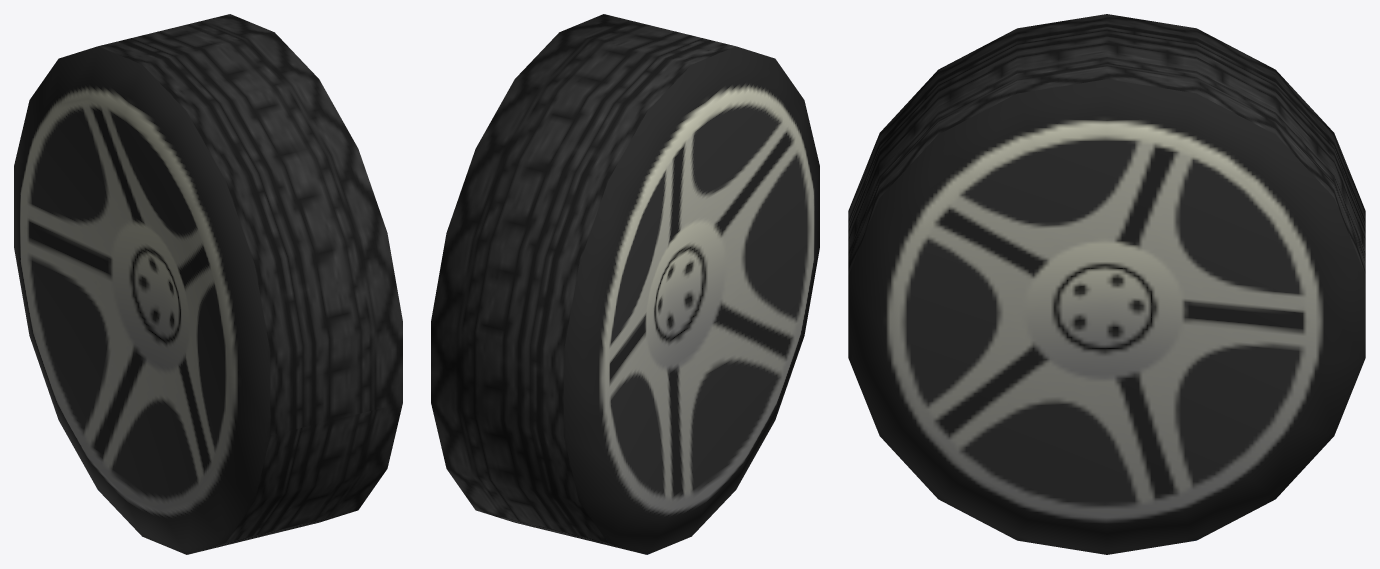
File: eva_wheel.obj
The picture shows the model from 3 angles, left to right: view 1: azimuth 30°, elevation 25°; view 2: azimuth 150°, elevation 25°; view 3: azimuth 270°, elevation 25°; orthographic projection.
Visible parts, largest first — view 1: Mesh_wheel_Cylinder01x.001; view 2: Mesh_wheel_Cylinder01x.001; view 3: Mesh_wheel_Cylinder01x.001.
Part boxes in pixels (x1=…): Mesh_wheel_Cylinder01x.001: x1=14, y1=14, x2=402, y2=554; Mesh_wheel_Cylinder01x.001: x1=431, y1=14, x2=819, y2=554; Mesh_wheel_Cylinder01x.001: x1=848, y1=14, x2=1365, y2=554.
Bounding box in the file's own units: 0.7576 × 2.03 × 2.
Materials: 1 (1 with a texture image).
